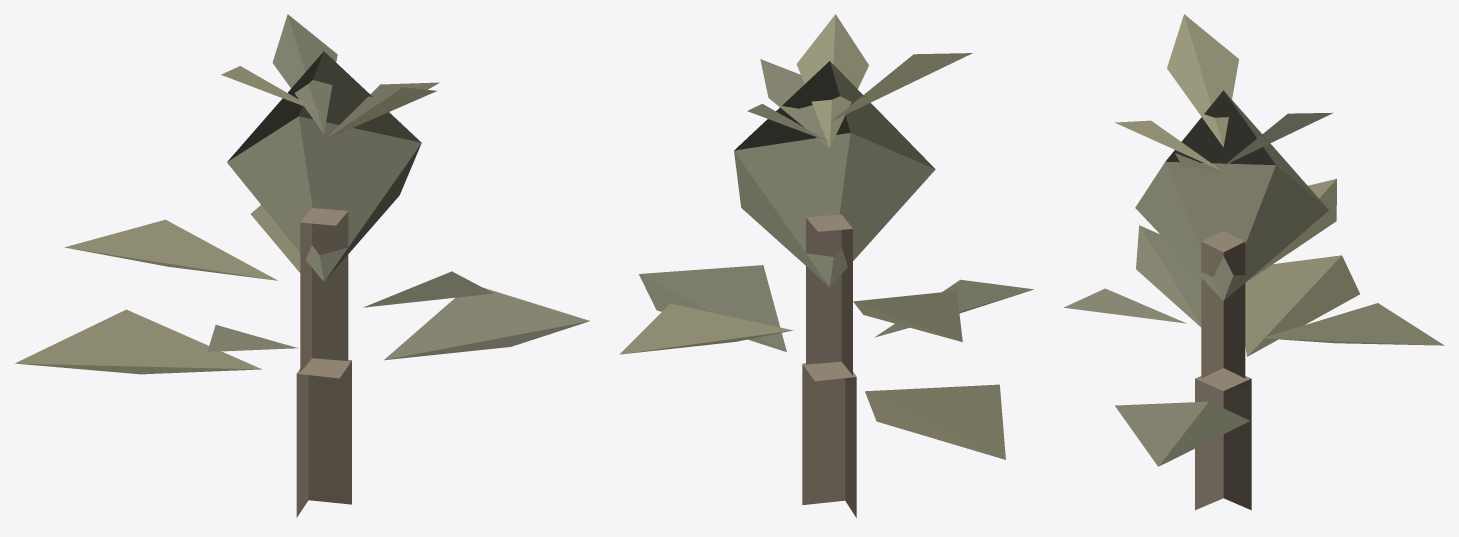
File: shu.yinxing@seedling__winter.glb
The picture shows the model from 3 angles, left to right: view 1: azimuth 30°, elevation 25°; view 2: azimuth 150°, elevation 25°; view 3: azimuth 270°, elevation 25°; orthographic projection. The views are drawn at different scales.
Parts seen in each view (by area): view 1: shu.yinxing@seedling__winter; view 2: shu.yinxing@seedling__winter; view 3: shu.yinxing@seedling__winter.
Boxes of the visible parts, x1,y1,x2,y2 form: shu.yinxing@seedling__winter: (15, 14, 589, 517); shu.yinxing@seedling__winter: (619, 14, 1033, 517); shu.yinxing@seedling__winter: (1064, 14, 1444, 510).
Size of the model in its own units: 1.45 by 1.41 by 1.11.
